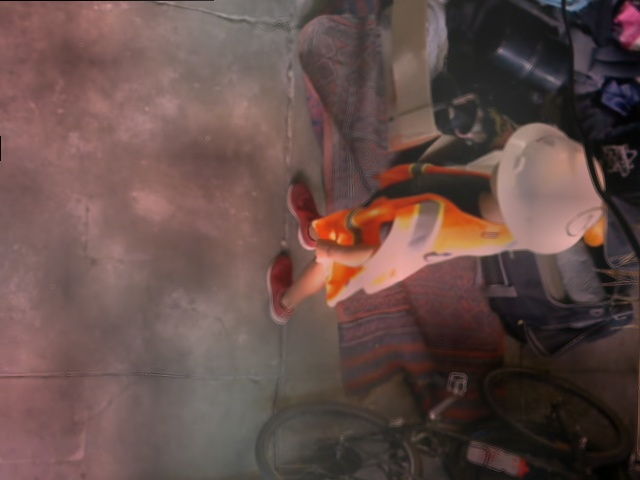one: (567, 207, 604, 239)
